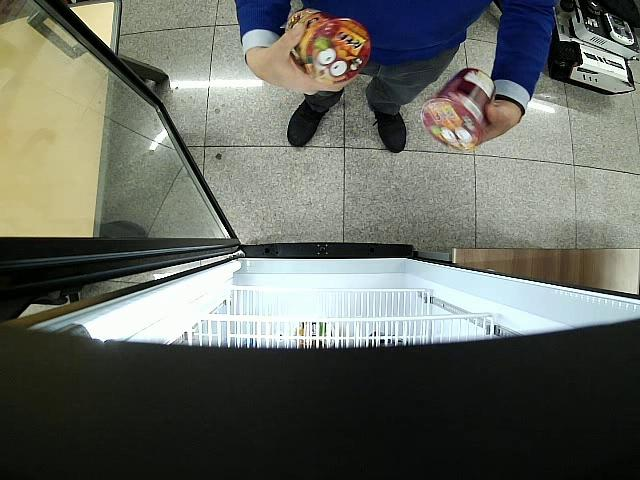00_hand: (246, 22, 360, 93), (477, 99, 524, 143)
06_nuguri_S: (285, 10, 370, 85), (420, 68, 495, 151)
